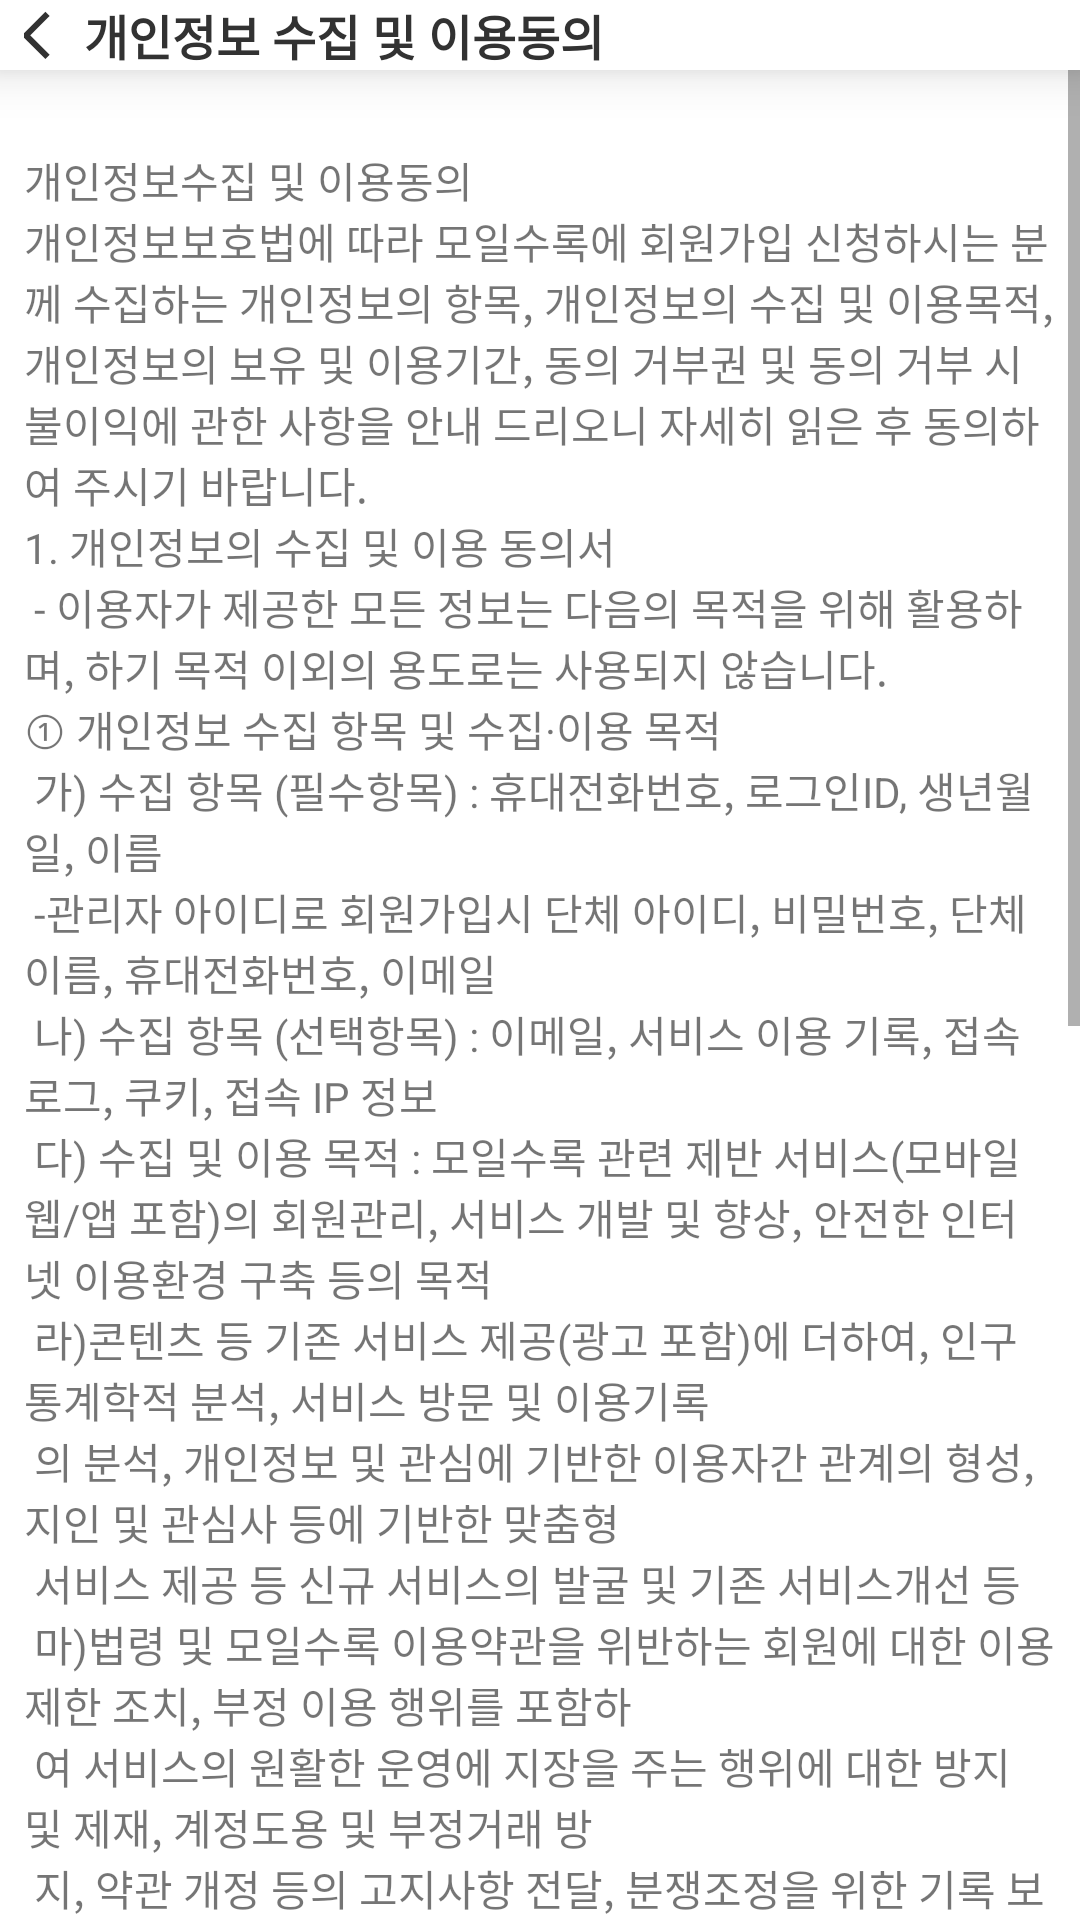

Named icons in this screenshot (1080*1920) and their centers, [x,y]:
back sharp: [37,35]
